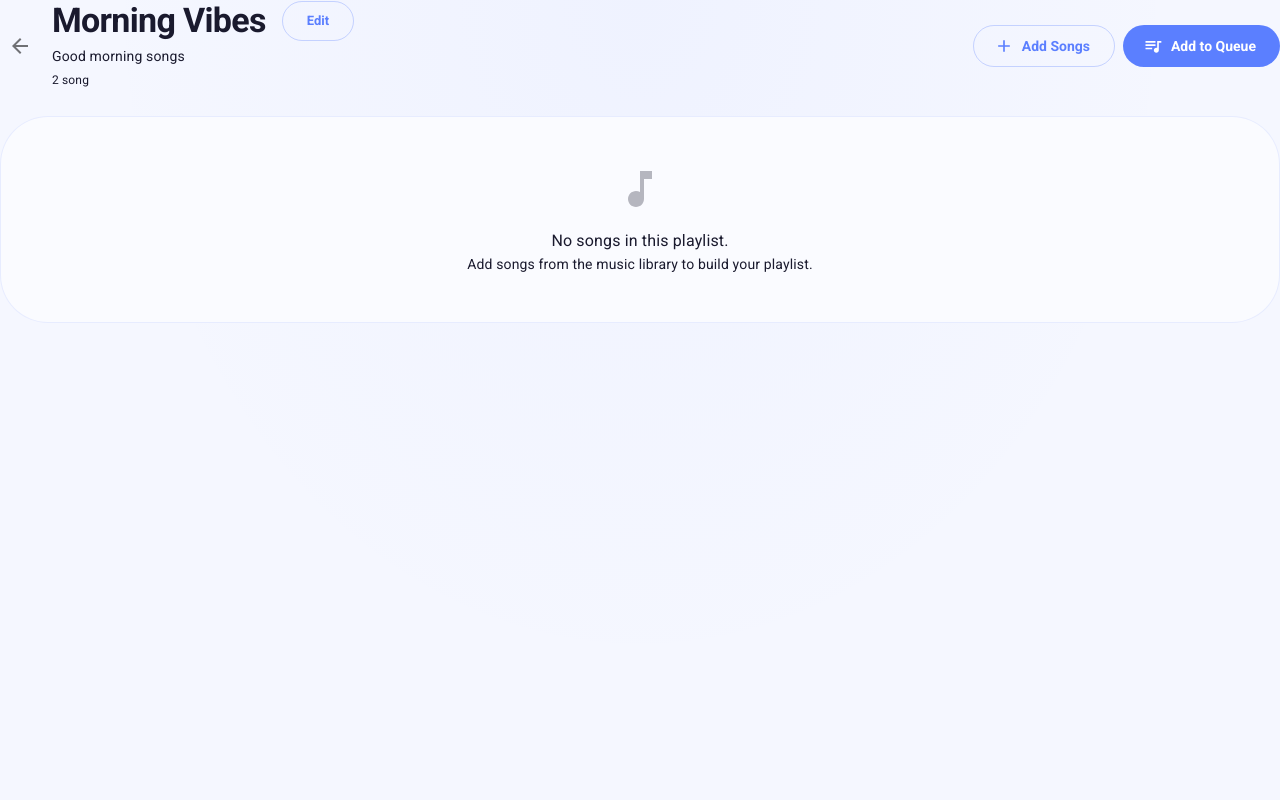
Test: Playlist Detail Page › opens edit dialog and saves changes
Expected: the heading "Morning Vibes" is shown, left=52, top=0, right=266, bottom=42
Click the button "Edit" at (318, 21), box left=282, top=1, right=354, bottom=41
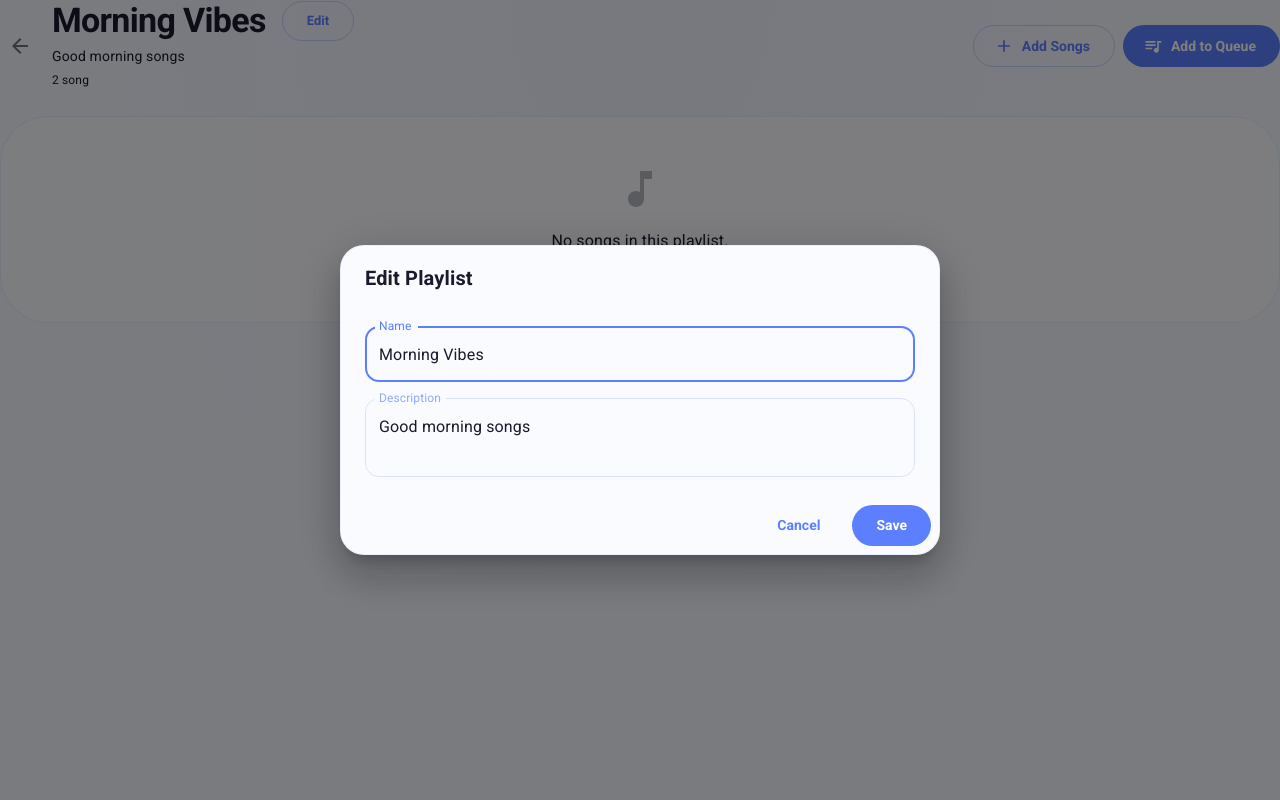
Replace the text in the field labelled "Name" with "Updated Name" at (640, 354), box left=365, top=326, right=915, bottom=382
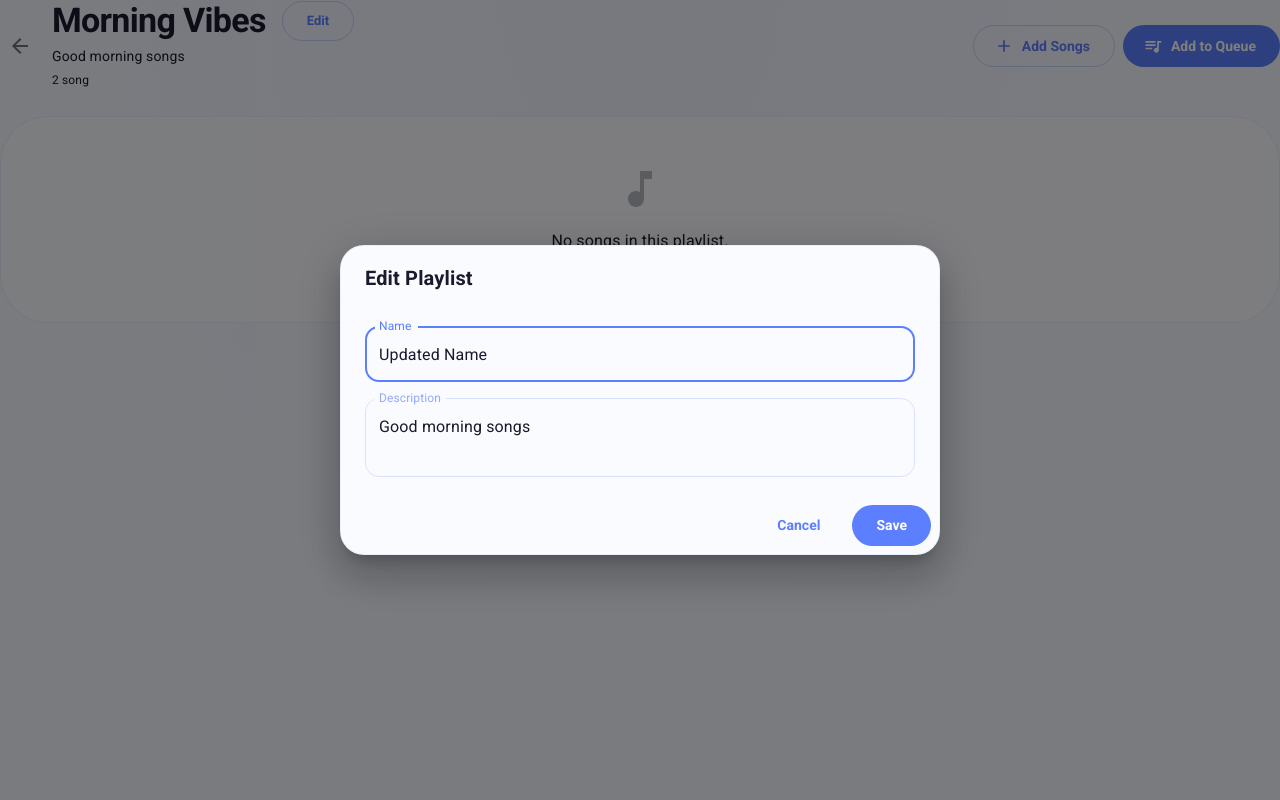
Click the button "Save" at (892, 526), box left=852, top=505, right=931, bottom=546
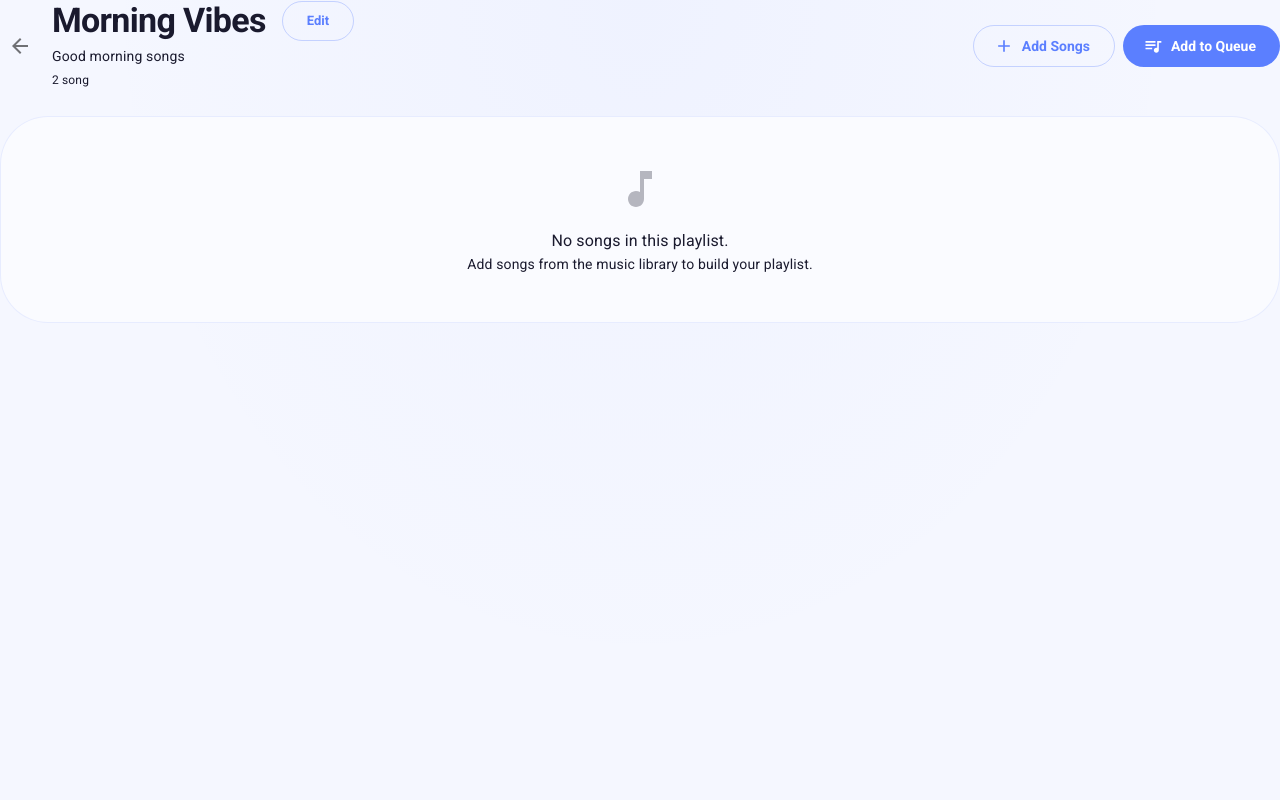
Expected: the dialog is gone
